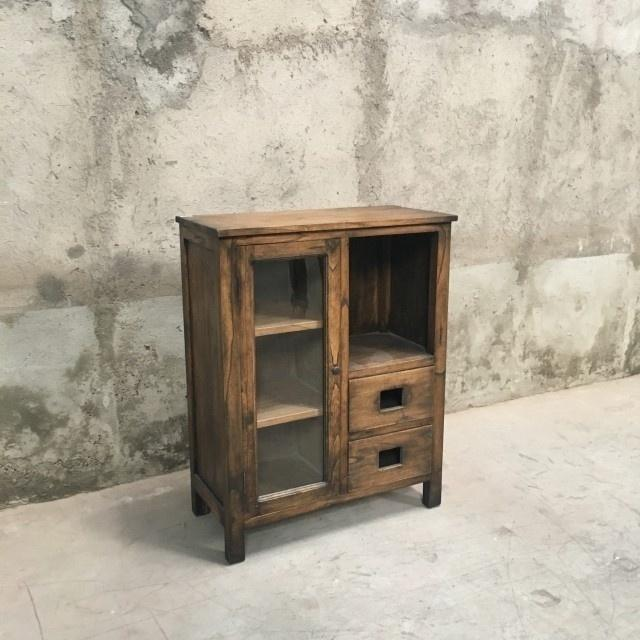cabinet_door: (235, 248, 345, 513), (346, 375, 429, 427), (349, 434, 433, 481)
handle: (380, 386, 403, 410), (380, 446, 401, 467), (332, 359, 342, 373), (329, 361, 339, 374)
